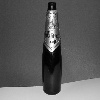beer: (37, 1, 66, 97)
